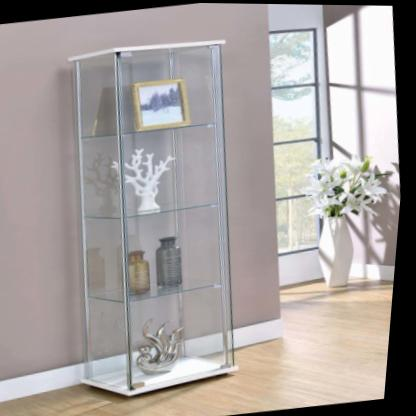Cupboard: (68, 39, 243, 397)
